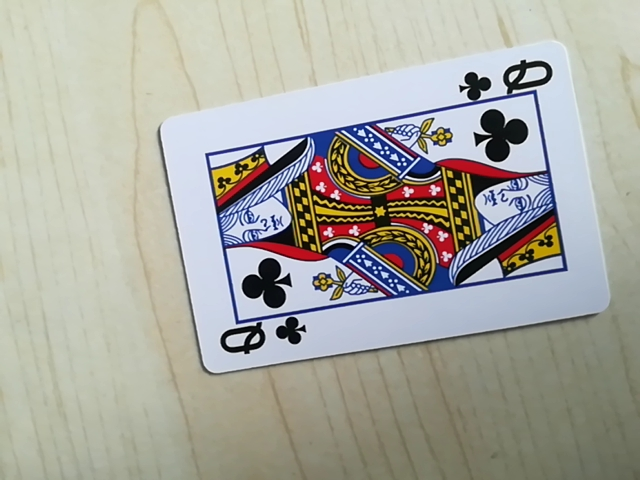mh q: (212, 308, 307, 366), (457, 55, 557, 103)
